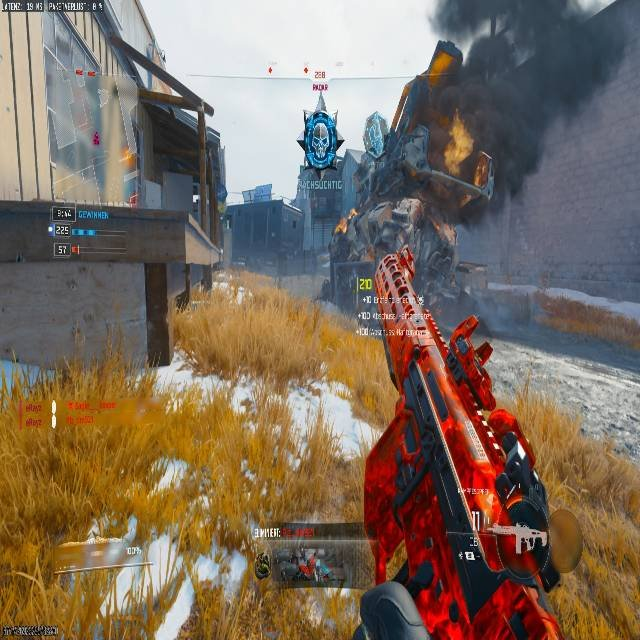head: (358, 581, 421, 640)
